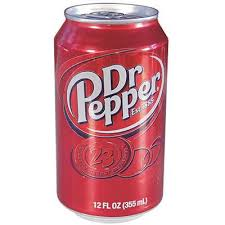can: (54, 4, 164, 222)
